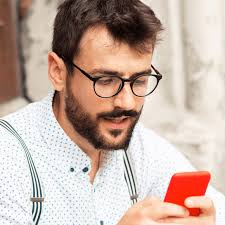b.y: (90, 106, 135, 152)
